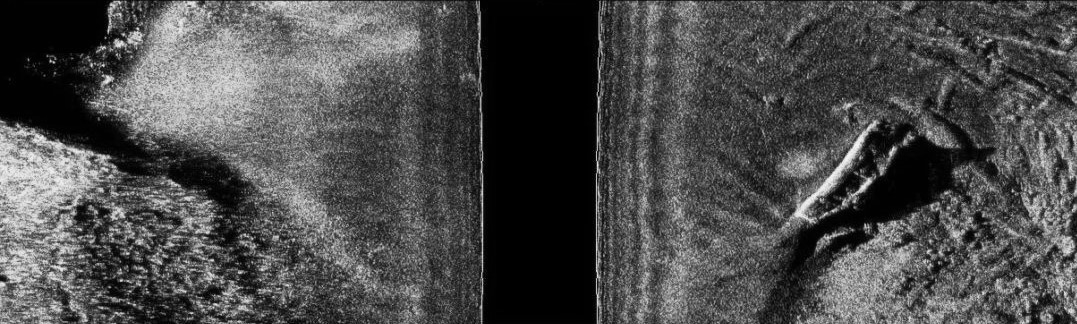ship: (796, 118, 917, 230)
